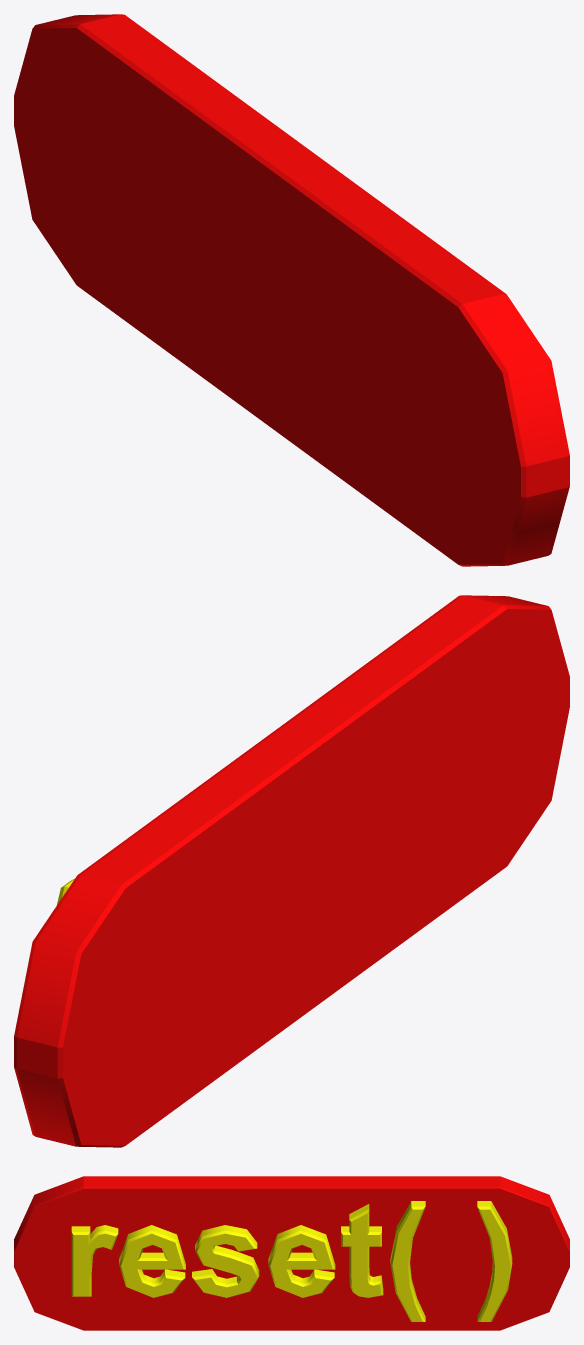
Rendered from reset.FBX.
3 renders of one model, top to bottom at view 1: azimuth 30°, elevation 25°; view 2: azimuth 150°, elevation 25°; view 3: azimuth 270°, elevation 25°, orthographic. The views are drawn at different scales.
Parts seen in each view (by area): view 1: reset; view 2: reset; view 3: reset.
Part boxes in pixels (left/top/right/bottom): reset: left=14, top=14, right=569, bottom=566; reset: left=14, top=595, right=569, bottom=1147; reset: left=14, top=1176, right=569, bottom=1330.
Size of the model in its own units: 112 by 381 by 1339.
